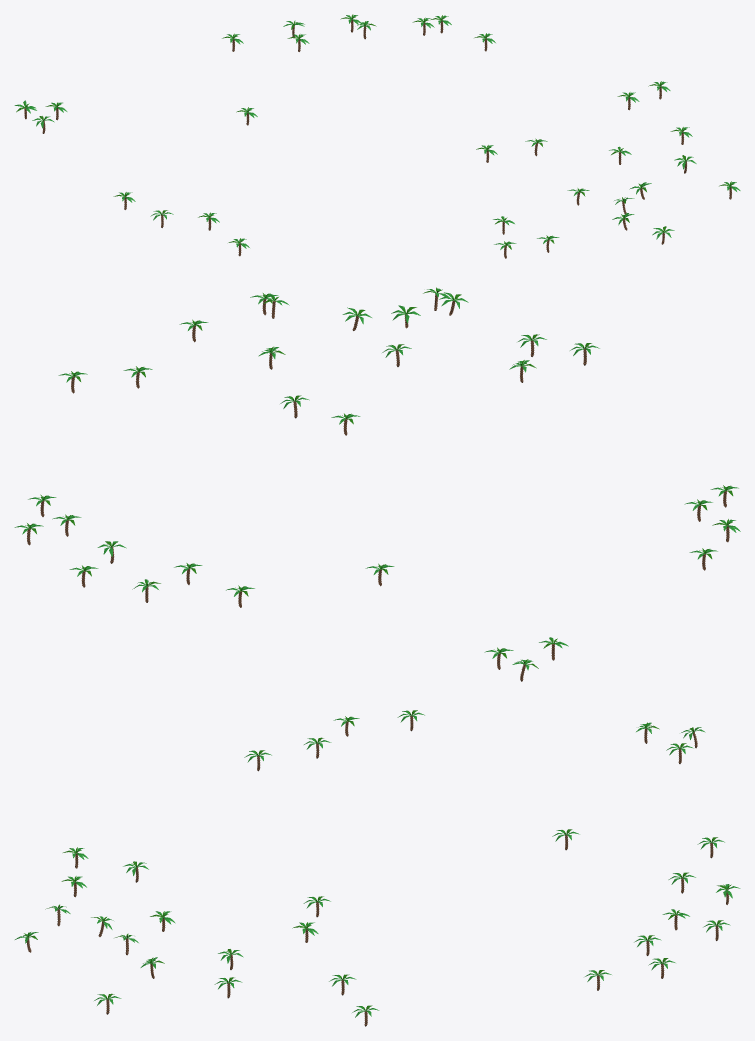
The model's file is PalmenAnordnung.fbx.
3 renders of one model, top to bottom at view 1: azimuth 30°, elevation 25°; view 2: azimuth 150°, elevation 25°; view 3: azimuth 270°, elevation 25°, orthographic. The views are drawn at different scales.
Size of the model in its own units: 31200 by 1924 by 31416.
